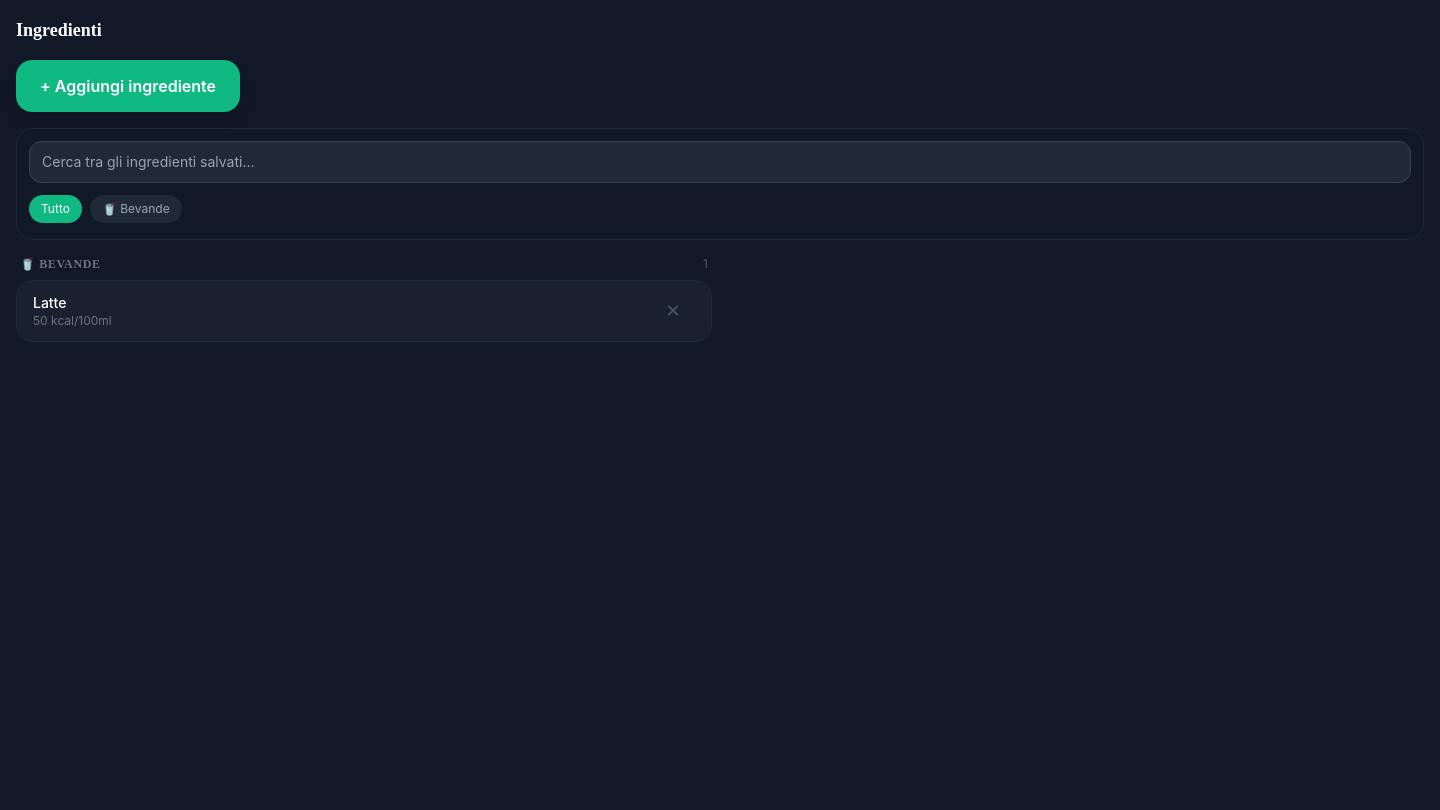
Test: PantryPage manual entry › does not retain the editing ID when starting a new ingredient after cancelling an edit
This screenshot has width=1440, height=810.
Click the button with aria-label "Modifica Latte". click: (50, 302)
box: top-left (17, 281), bottom-right (651, 341)
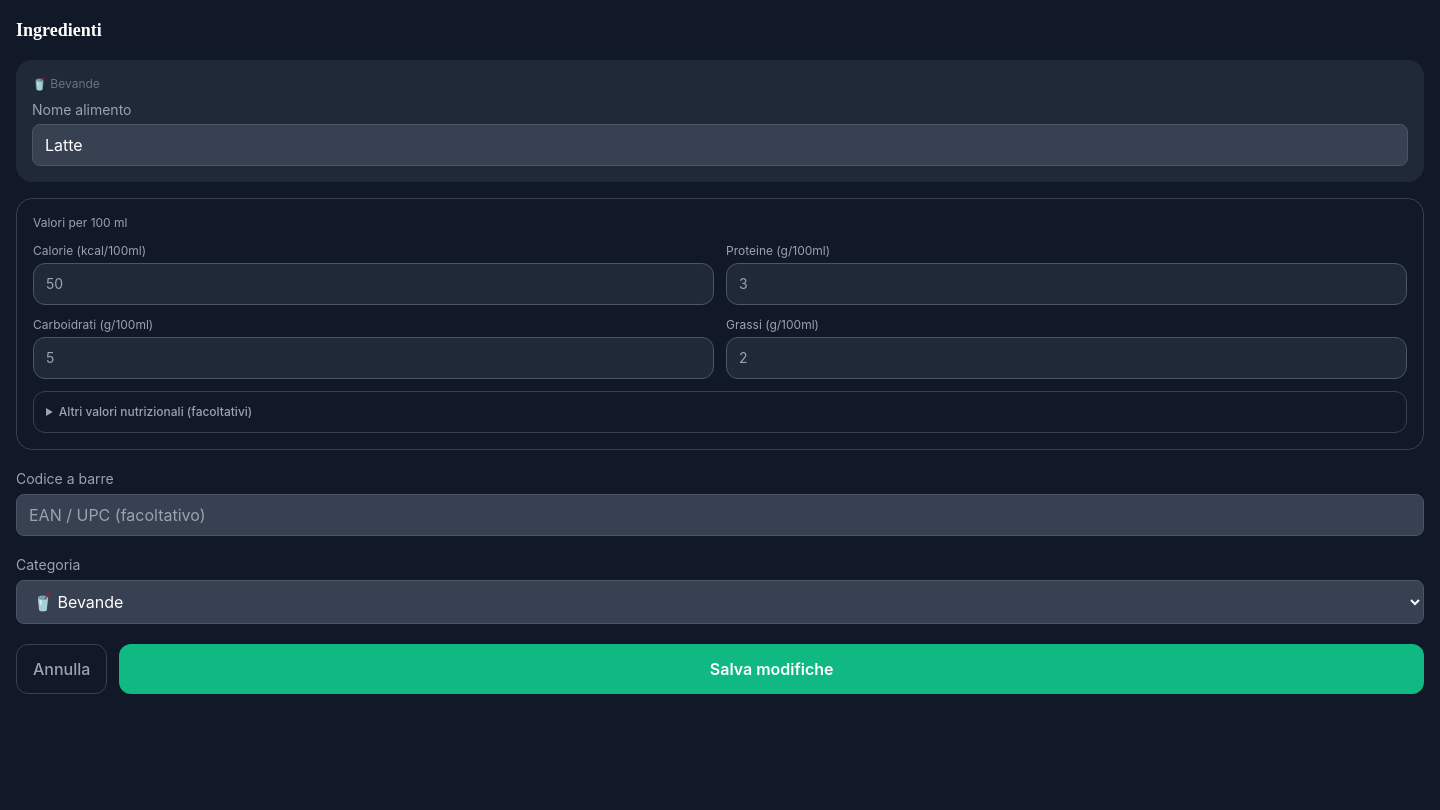
Expected: the field labelled "Nome alimento" holds "Latte", top-left (32, 124), bottom-right (1408, 166)
Click the button "Annulla". click: (62, 669)
box: top-left (16, 644), bottom-right (107, 694)
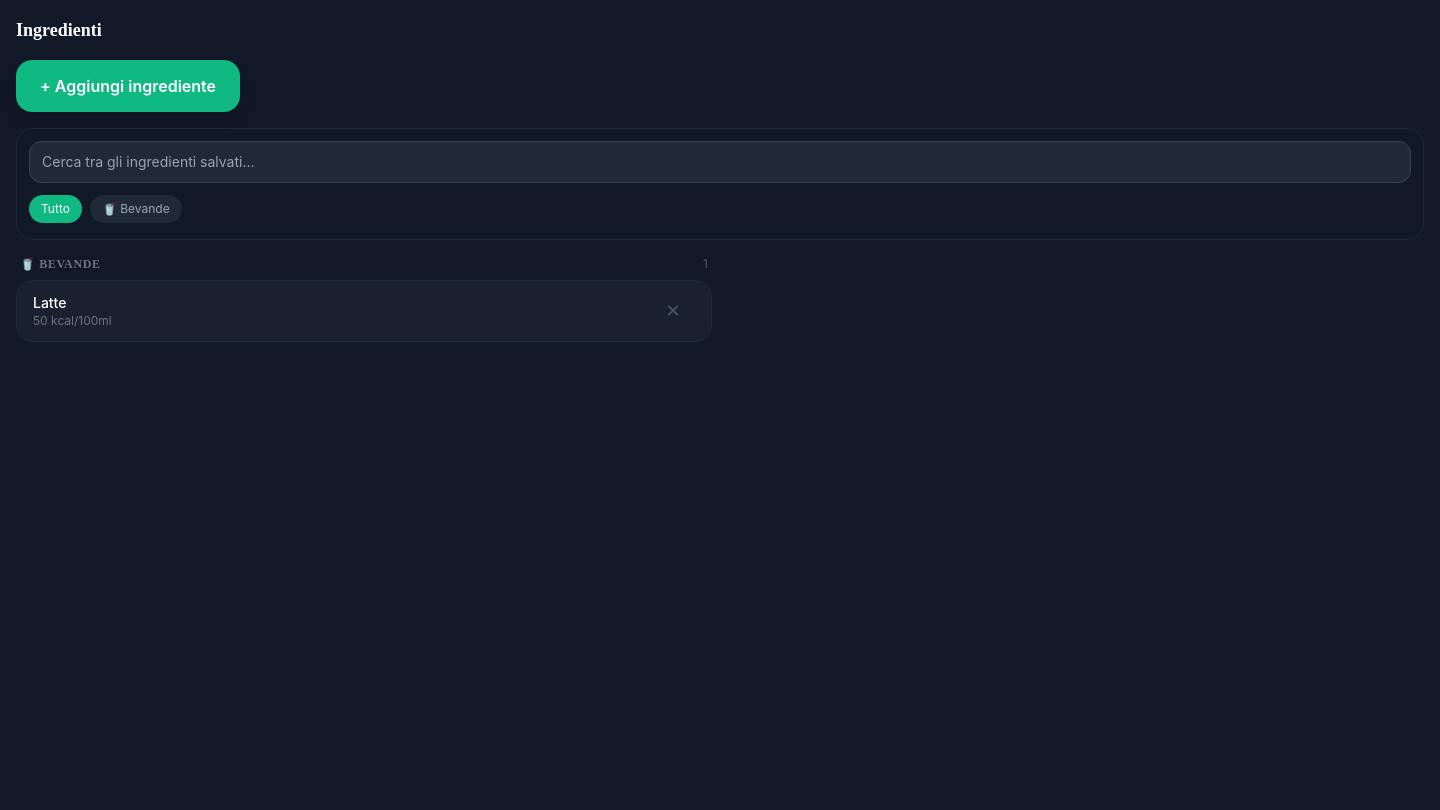
Click the button "+ Aggiungi ingrediente". click: (128, 86)
box: top-left (16, 60), bottom-right (240, 112)
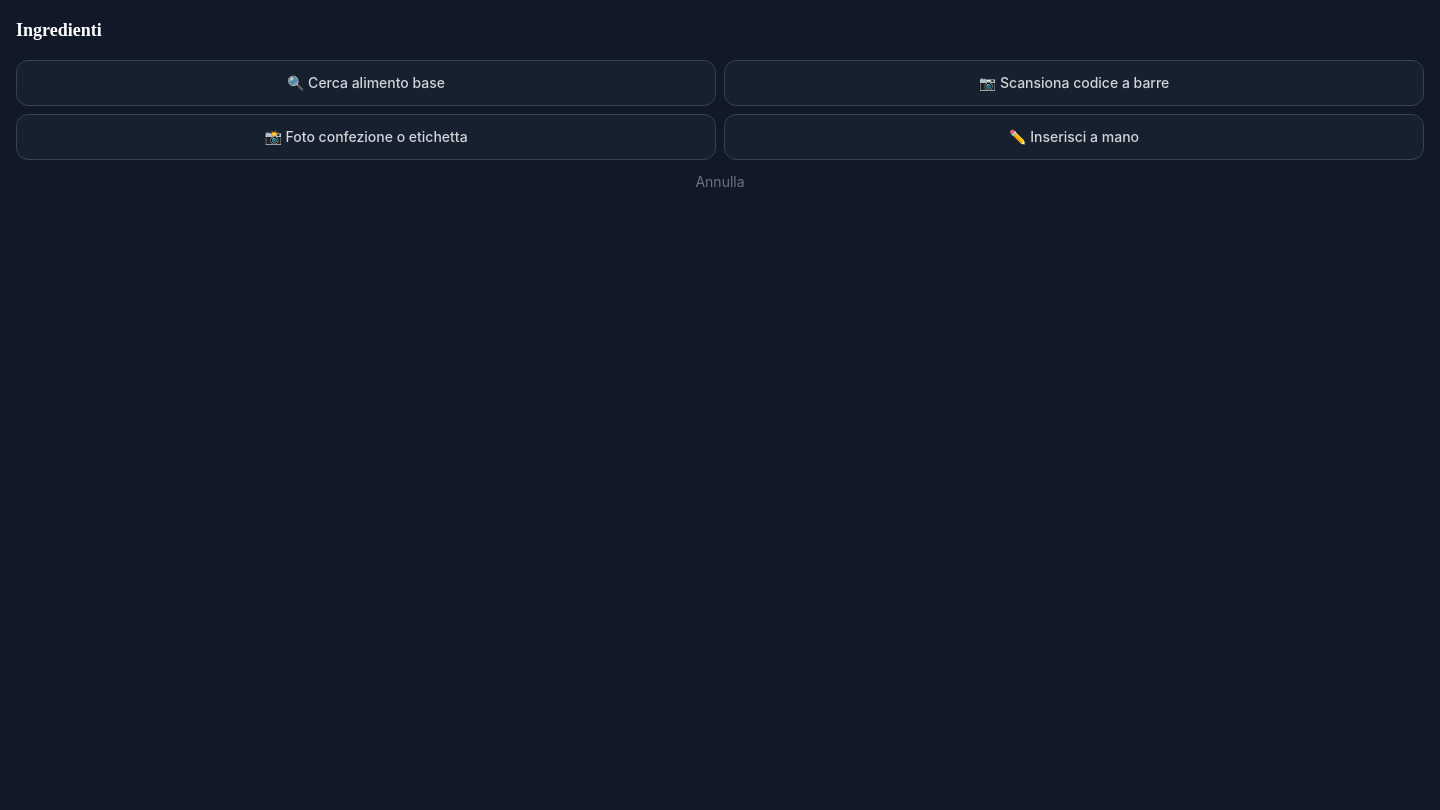
Click the button "✏️ Inserisci a mano". click: (1074, 137)
box: top-left (724, 114), bottom-right (1424, 160)
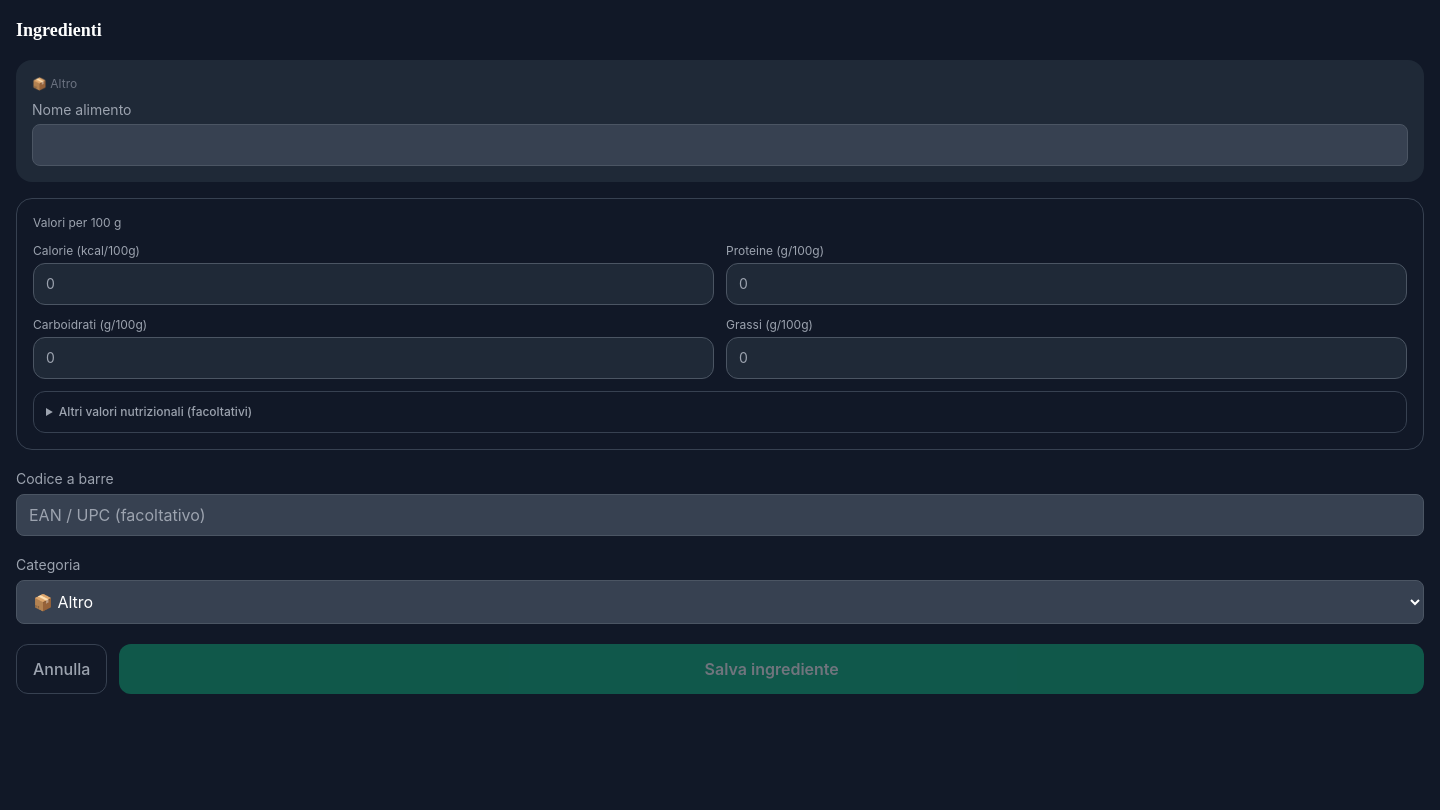
Type "Lenticchie" into the field labelled "Nome alimento". click: (720, 145)
box: top-left (32, 124), bottom-right (1408, 166)
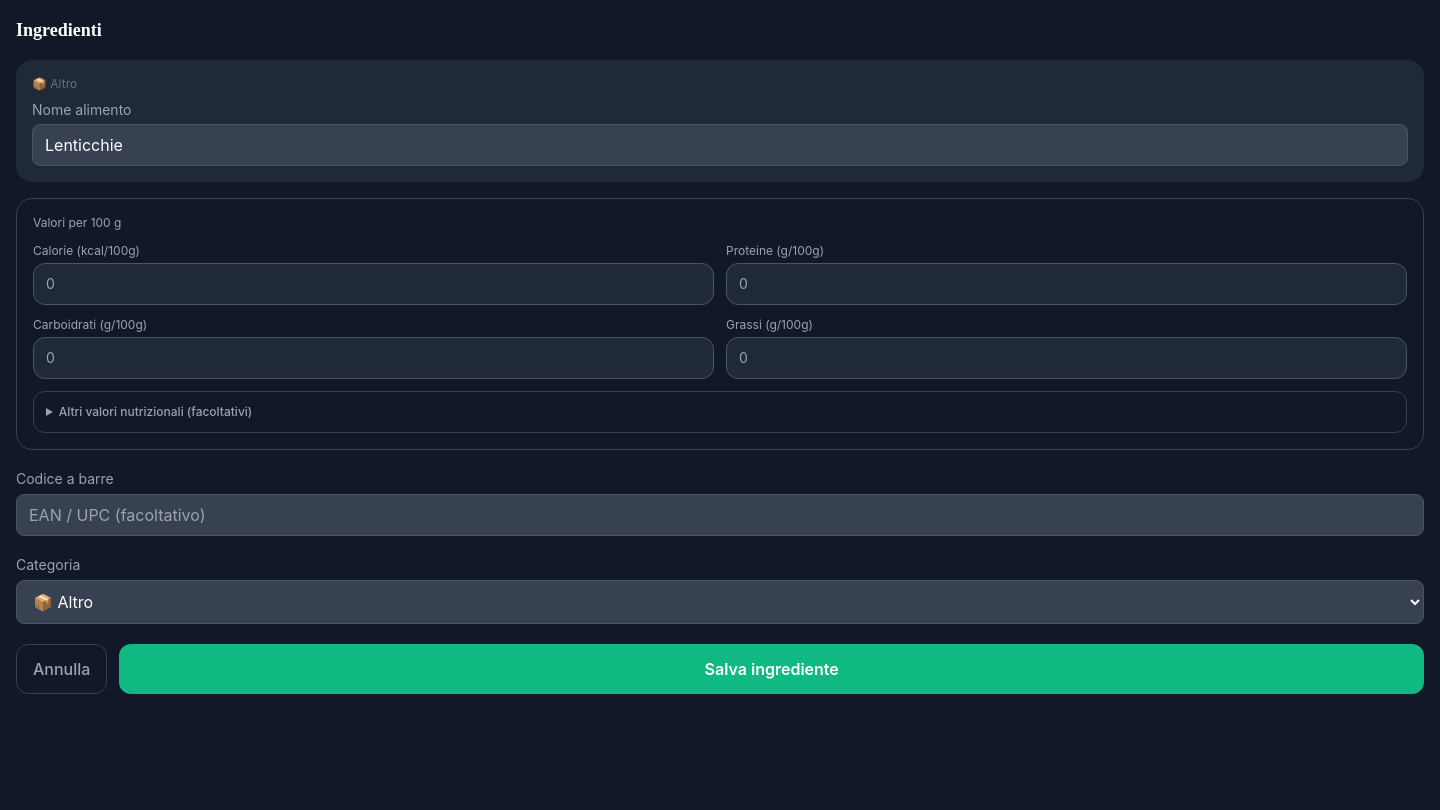
Replace the text in the number field labelled "Calorie (kcal/100g)" with "120.5". click: (374, 284)
box: top-left (33, 263), bottom-right (714, 305)
Click the button "Salva ingrediente". click: (772, 669)
box: top-left (119, 644), bottom-right (1424, 694)
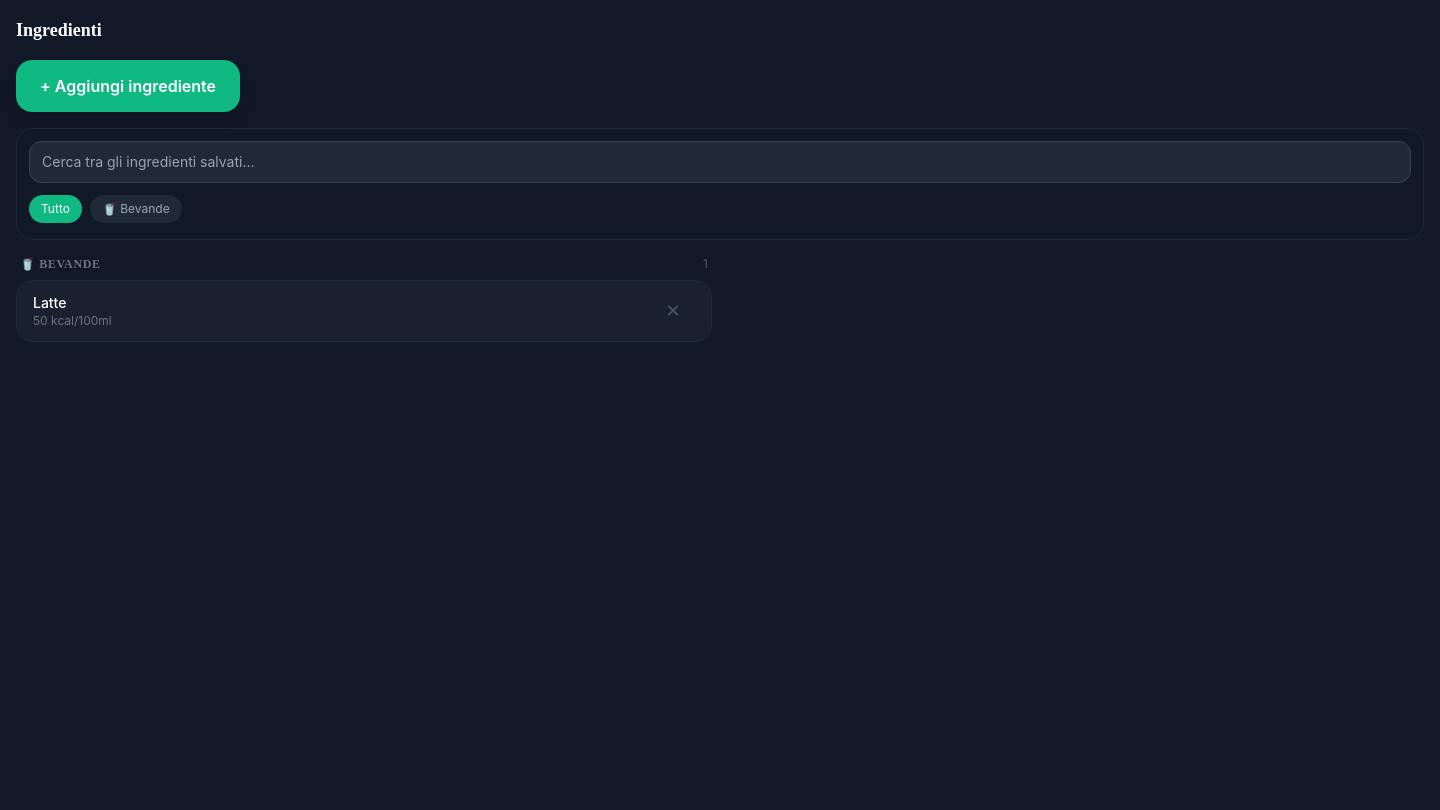
Expected: the button "+ Aggiungi ingrediente" is shown, top-left (16, 60), bottom-right (240, 112)
